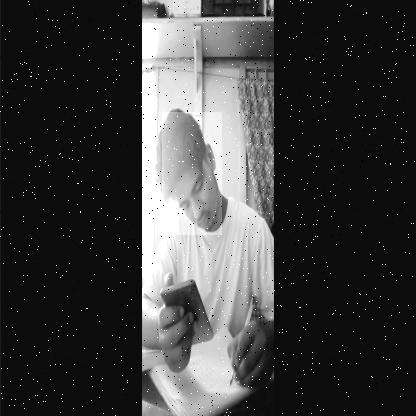Distracted: (162, 112, 222, 235)
